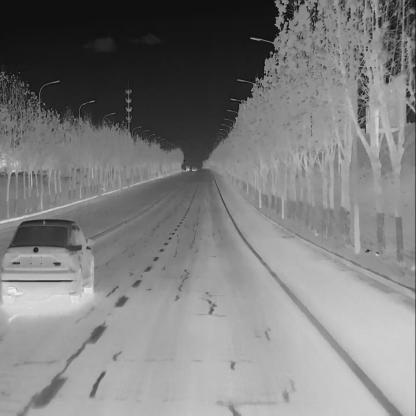car: (0, 214, 96, 305), (191, 165, 197, 172), (185, 164, 190, 172), (182, 167, 187, 173)
